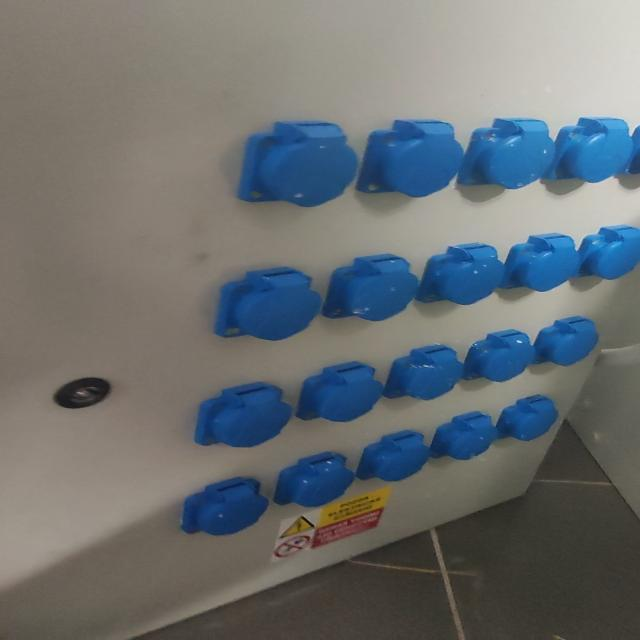house plug covered: (235, 123, 356, 209), (361, 120, 465, 200), (215, 267, 322, 344), (191, 382, 295, 451), (457, 118, 555, 190), (321, 254, 419, 322), (542, 117, 634, 183), (415, 243, 505, 306), (293, 363, 383, 423), (180, 479, 267, 539), (497, 233, 581, 292), (381, 344, 464, 401), (273, 452, 353, 509), (462, 329, 537, 383), (357, 431, 431, 482), (576, 224, 640, 282), (533, 316, 601, 368), (432, 412, 498, 461), (497, 397, 558, 442)
